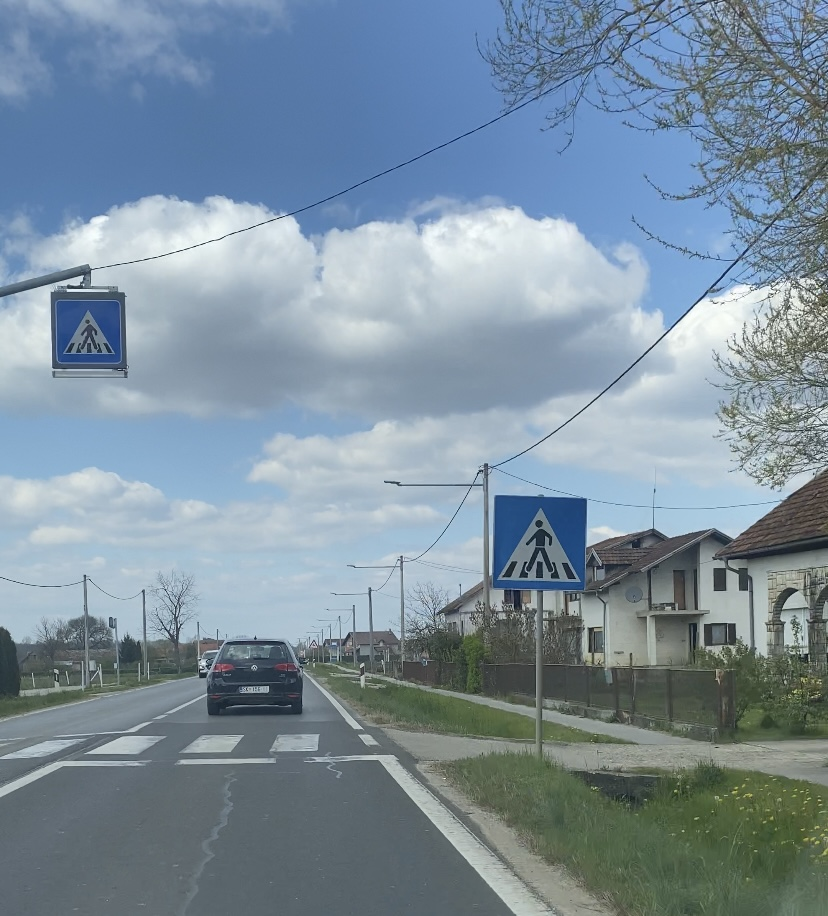Pješački prijelaz: (493, 495, 588, 590), (55, 300, 122, 364)
